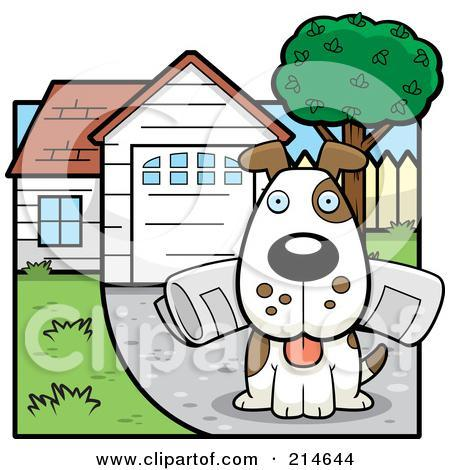dog: (222, 139, 391, 420)
